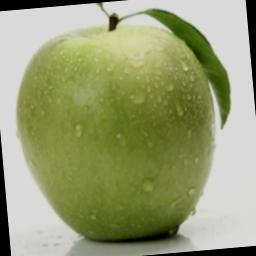Apple Unripe: (0, 1, 256, 247)
